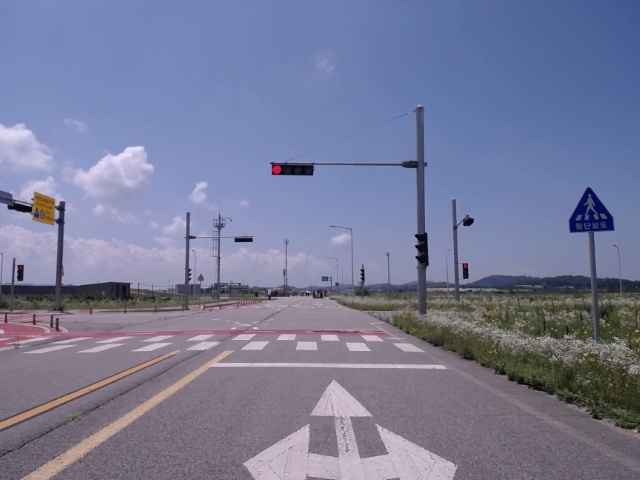red_4: (272, 164, 314, 175)
